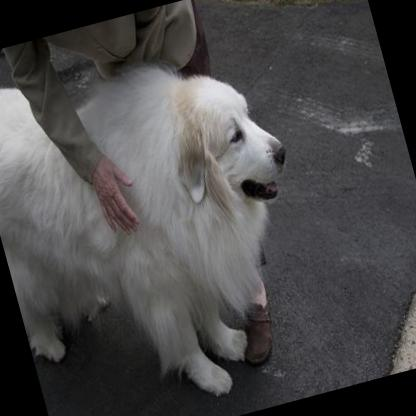Great_Pyrenees: (0, 18, 344, 416)
